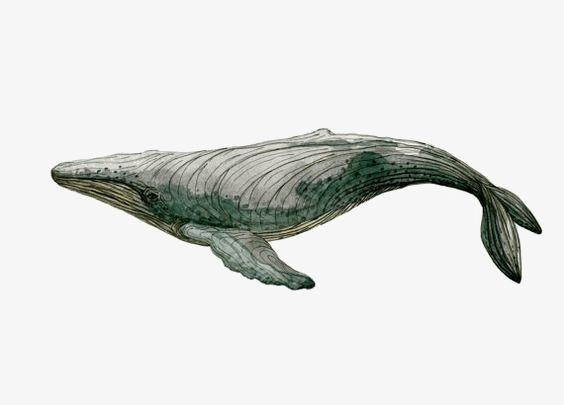fish: (51, 122, 542, 292)
